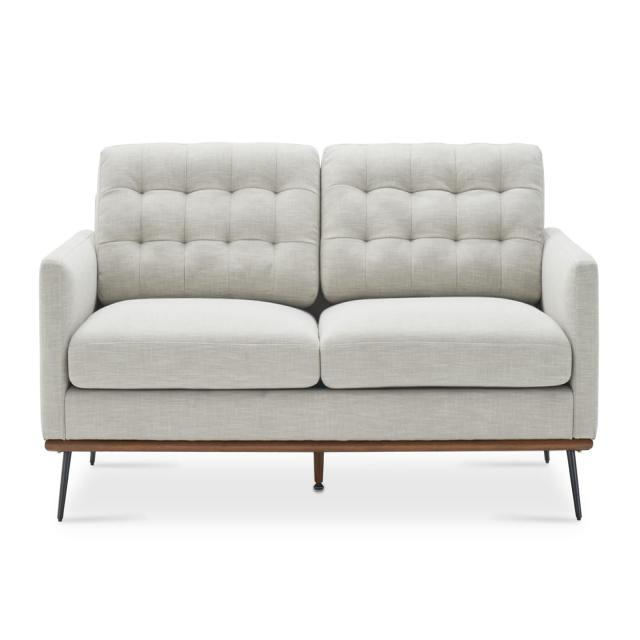sofa: (38, 140, 599, 524)
